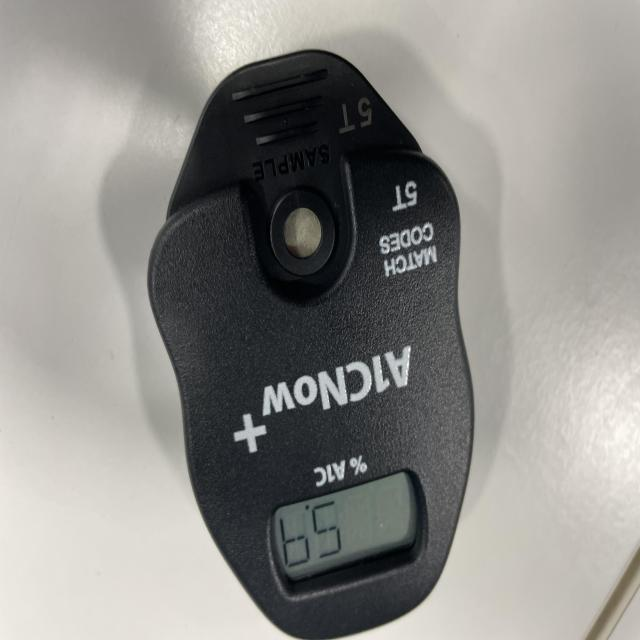hba1c: (146, 50, 478, 640), (145, 50, 477, 640)
